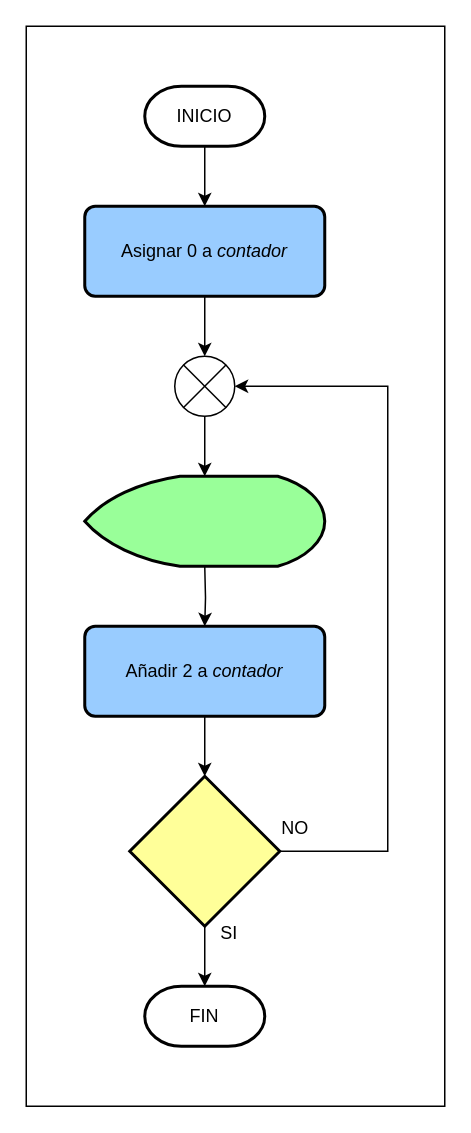
This 471x1133 diagram has some shape labels left out. Each missing label, with the centre of its shape:
contador > 198: point (204, 850)
Mostrar contador: point (204, 520)
